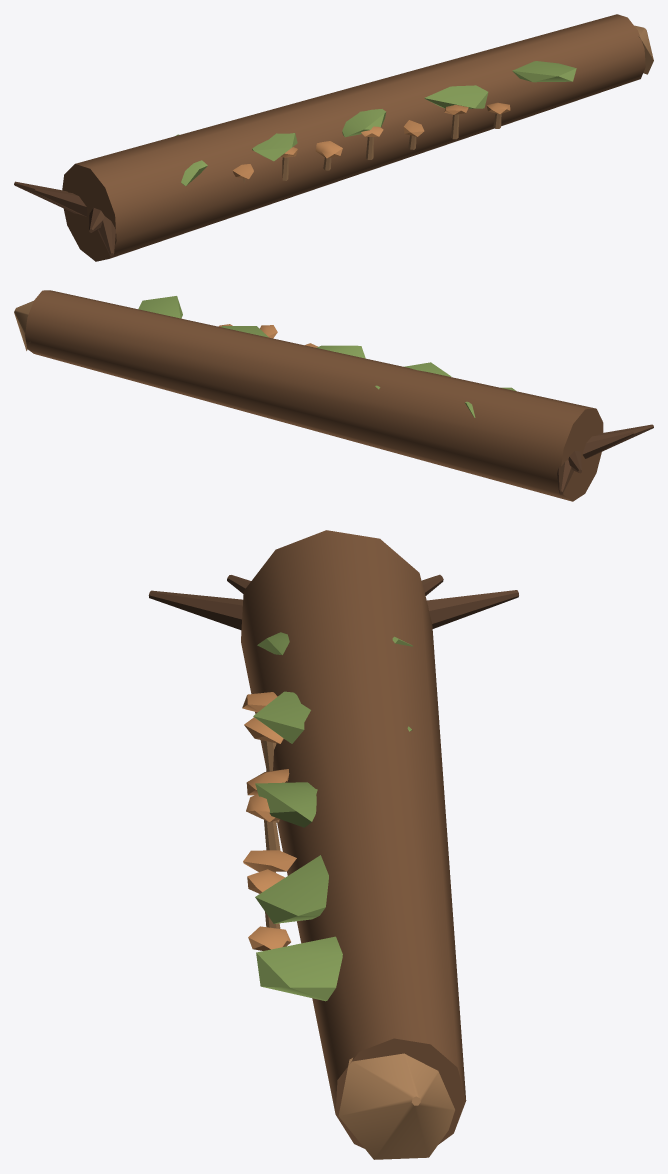
File: mesh_deadfall_a.glb
3 renders of one model, top to bottom at view 1: azimuth 30°, elevation 25°; view 2: azimuth 150°, elevation 25°; view 3: azimuth 270°, elevation 25°, orthographic. The views are drawn at different scales.
Parts seen in each view (by area): view 1: mesh_deadfall_a__bark_mid, mesh_deadfall_a__moss, mesh_deadfall_a__bark_dark, mesh_deadfall_a__fungus, mesh_deadfall_a__bark_cut; view 2: mesh_deadfall_a__bark_mid, mesh_deadfall_a__moss, mesh_deadfall_a__bark_dark, mesh_deadfall_a__bark_cut; view 3: mesh_deadfall_a__bark_mid, mesh_deadfall_a__moss, mesh_deadfall_a__bark_cut, mesh_deadfall_a__fungus, mesh_deadfall_a__bark_dark.
Part boxes in pixels (left/top/right/bottom): mesh_deadfall_a__bark_mid: left=62, top=14, right=645, bottom=261; mesh_deadfall_a__moss: left=176, top=61, right=576, bottom=185; mesh_deadfall_a__bark_dark: left=14, top=181, right=115, bottom=256; mesh_deadfall_a__fungus: left=233, top=102, right=510, bottom=179; mesh_deadfall_a__bark_cut: left=243, top=25, right=653, bottom=182; mesh_deadfall_a__bark_mid: left=25, top=290, right=603, bottom=501; mesh_deadfall_a__moss: left=138, top=296, right=516, bottom=417; mesh_deadfall_a__bark_dark: left=557, top=424, right=653, bottom=494; mesh_deadfall_a__bark_cut: left=14, top=301, right=33, bottom=350; mesh_deadfall_a__bark_mid: left=241, top=530, right=466, bottom=1148; mesh_deadfall_a__moss: left=253, top=632, right=412, bottom=1001; mesh_deadfall_a__bark_cut: left=264, top=740, right=454, bottom=1159; mesh_deadfall_a__fungus: left=242, top=692, right=296, bottom=950; mesh_deadfall_a__bark_dark: left=148, top=574, right=518, bottom=630.
Bounding box in the file's own units: 14.96 × 2.23 × 4.18.
